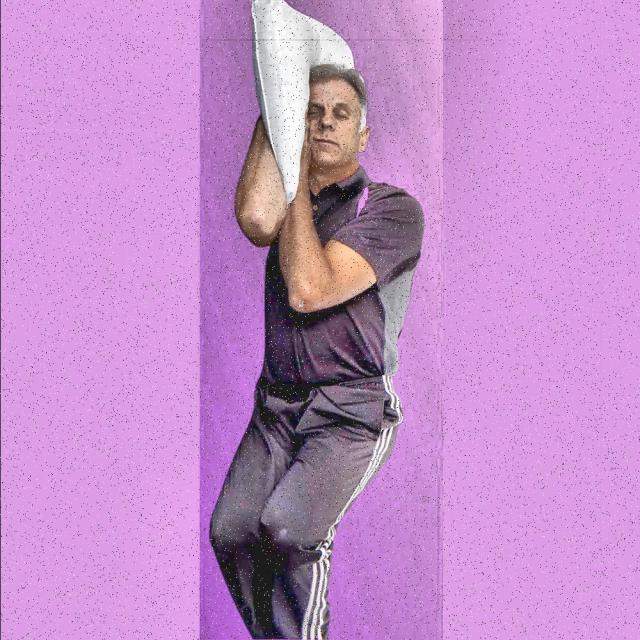Not_Supine: (210, 64, 424, 640)
